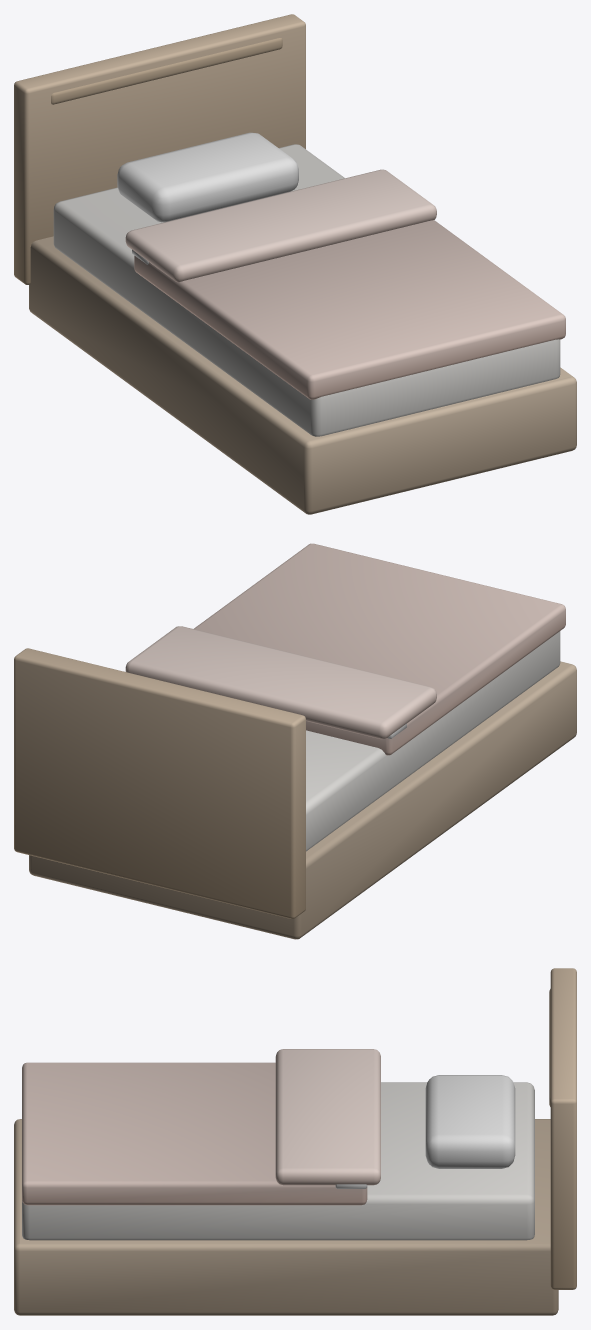
Rendered from bed_single.glb.
3 views of the same model, one above another, from view 1: azimuth 30°, elevation 25°; view 2: azimuth 150°, elevation 25°; view 3: azimuth 270°, elevation 25° (orthographic). The views are drawn at different scales.
Parts seen in each view (by area): view 1: bed_single; view 2: bed_single; view 3: bed_single.
Boxes of the visible parts, x1,y1,x2,y2 form: bed_single: [14, 14, 576, 514]; bed_single: [14, 543, 576, 939]; bed_single: [14, 968, 576, 1315].
Size of the model in its own units: 1.2 by 0.92 by 2.14.
